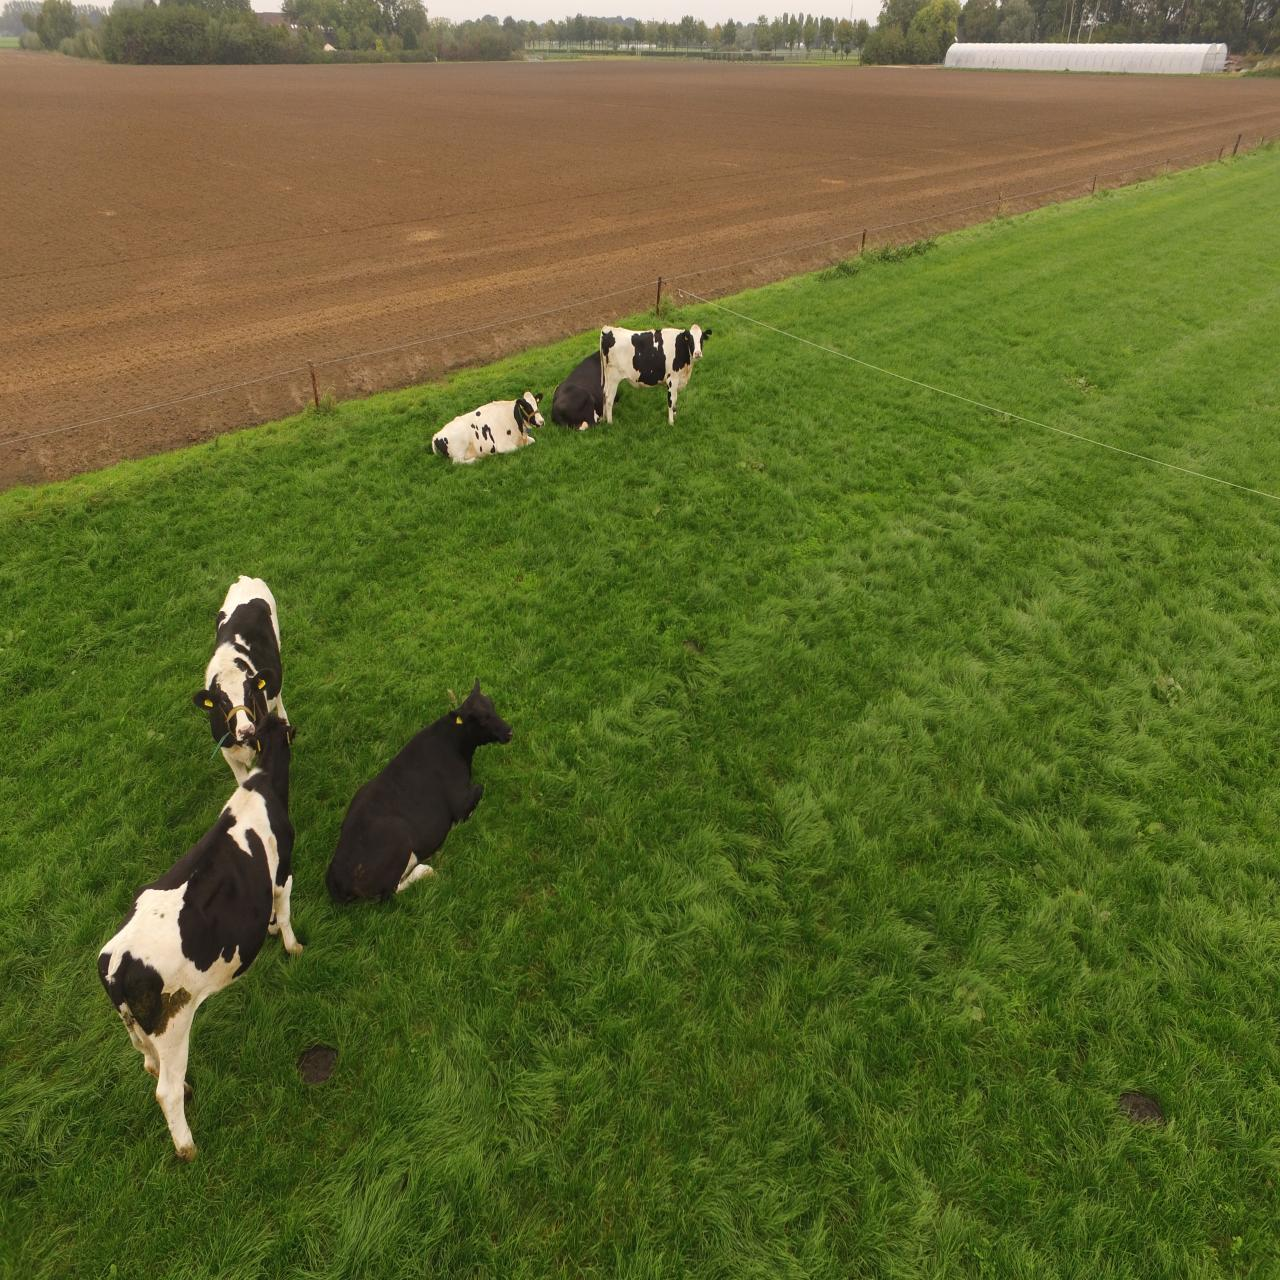cow: (145, 734, 295, 1183), (331, 678, 519, 915), (191, 573, 311, 788), (595, 314, 715, 422), (417, 384, 542, 471), (557, 354, 602, 430)
